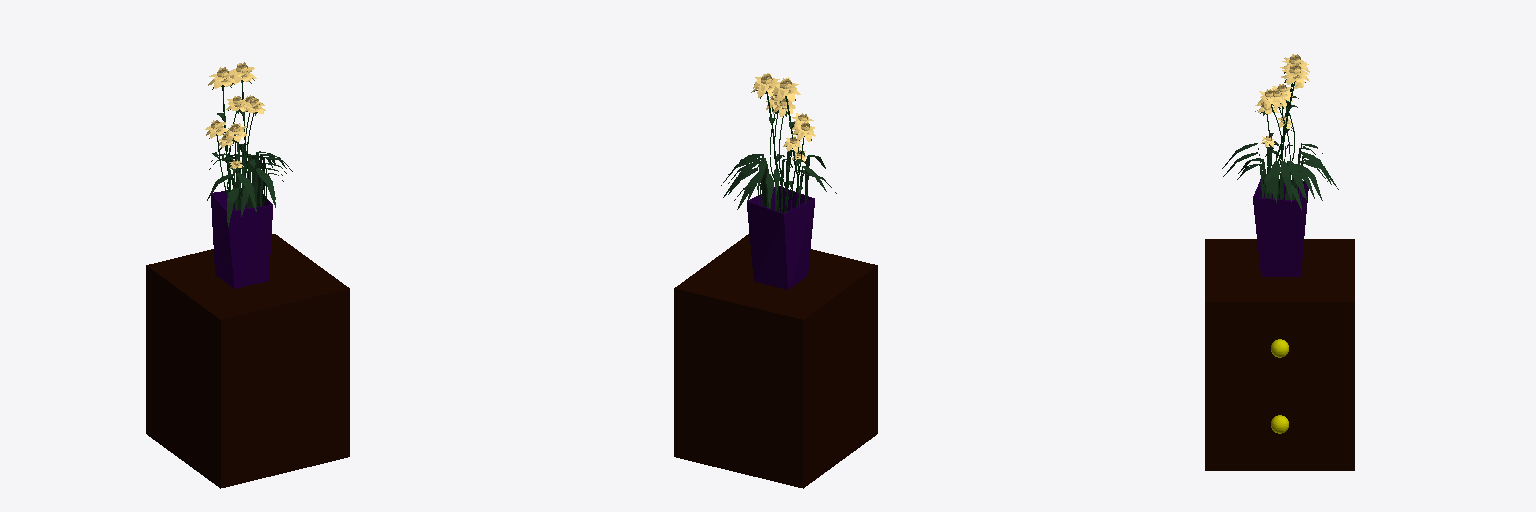
File: flowers.obj
3 renders of one model, left to right at view 1: azimuth 30°, elevation 25°; view 2: azimuth 150°, elevation 25°; view 3: azimuth 270°, elevation 25°, orthographic.
Visible parts, largest first — view 1: Cube_Cube.001, flowers; view 2: Cube_Cube.001, flowers; view 3: Cube_Cube.001, flowers.
Boxes of the visible parts, x1=… form: Cube_Cube.001: x1=146, y1=234, x2=349, y2=488; flowers: x1=205, y1=62, x2=292, y2=288; Cube_Cube.001: x1=674, y1=234, x2=877, y2=488; flowers: x1=721, y1=73, x2=836, y2=289; Cube_Cube.001: x1=1205, y1=239, x2=1354, y2=470; flowers: x1=1222, y1=54, x2=1338, y2=276.
Size of the model in its own units: 18 by 44.47 by 16.